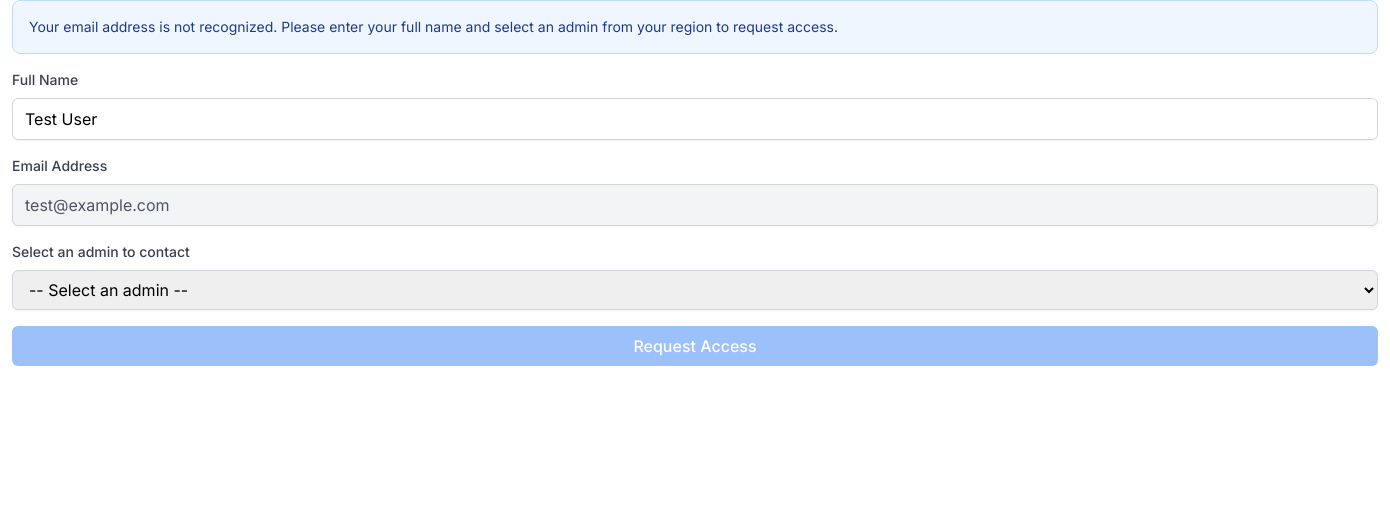
Test: AdminApproverSelector › should display error when submission fails
Select "Admin User One (Test City, CA)" in the dropdown at [695, 290], box [12,270,1378,310]
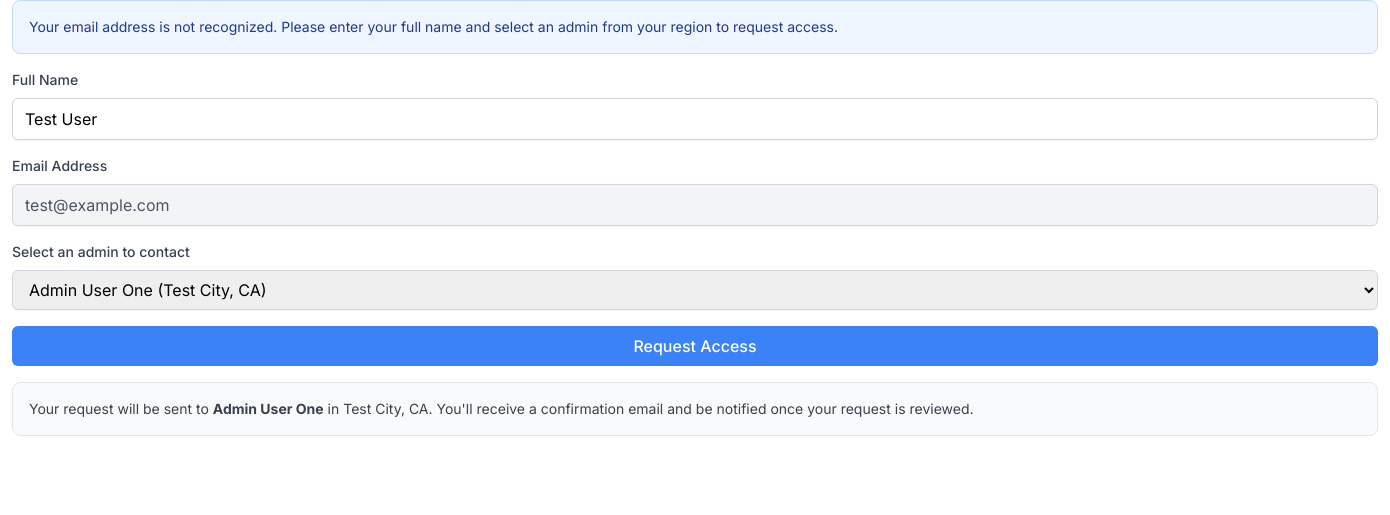
Click the button "Request Access" at [695, 346], box [12,326,1378,366]
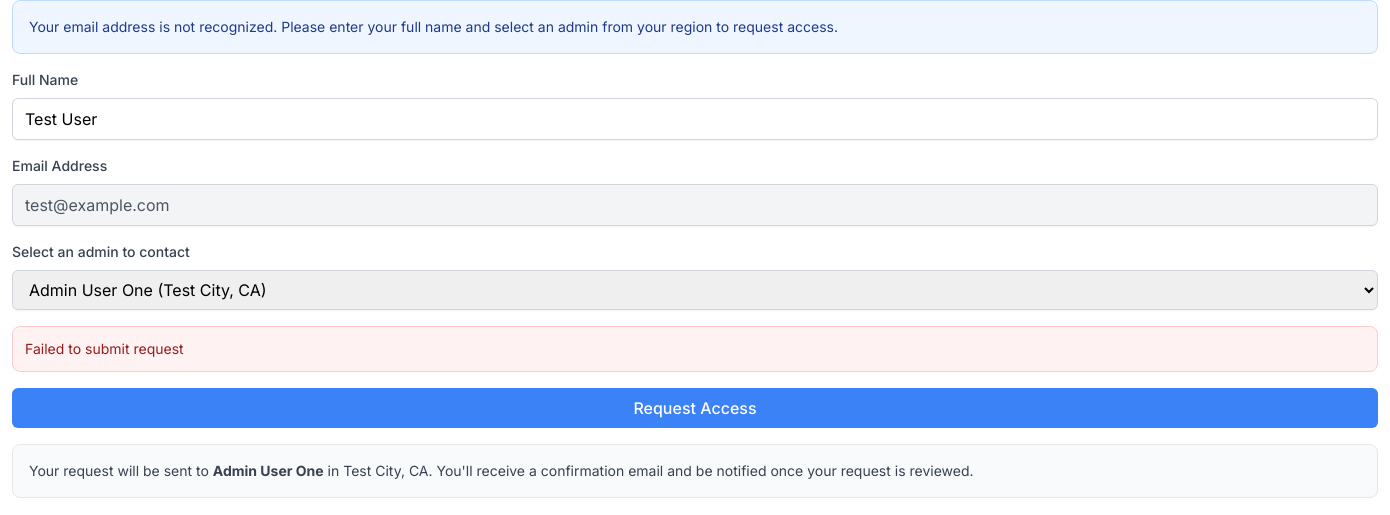
Result: the text "Failed to submit request" is shown at [25,340,184,357]
